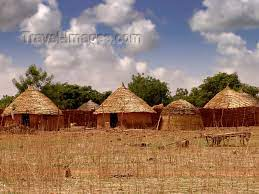Mud House: (95, 84, 158, 133), (6, 83, 67, 133), (204, 83, 257, 129), (159, 97, 204, 132)
